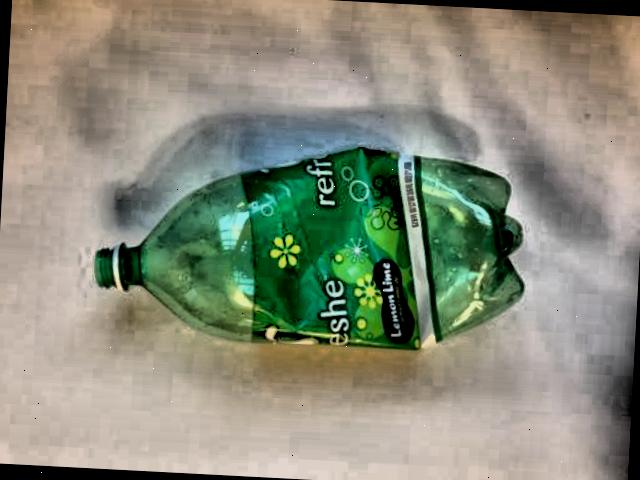Bottles: (74, 119, 544, 370)
